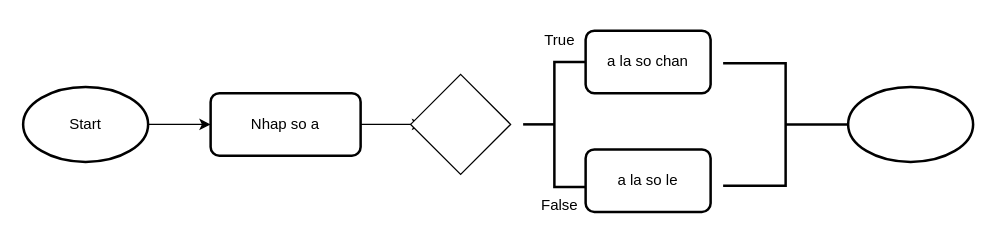
Image size: 995x245. Some labels were removed from this diagram. The centre of each missing label's shape, as x and y in pixels:
"a % 2 == 0" belongs at point (460, 123).
"End" belongs at point (910, 123).
